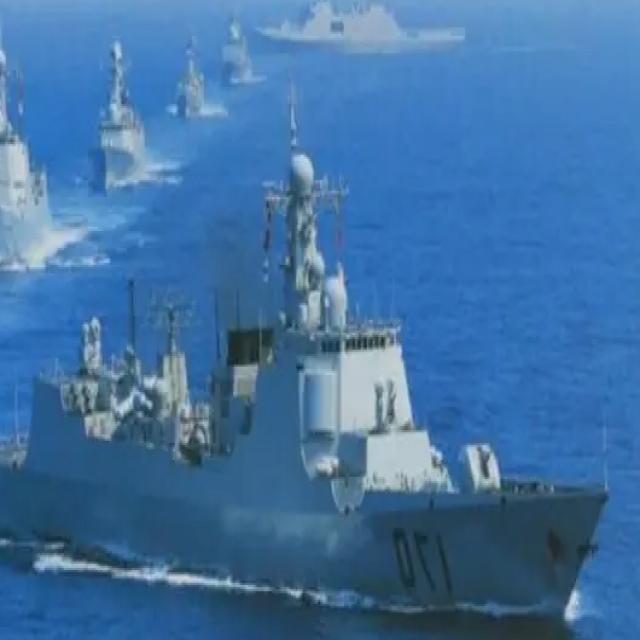navalvessels: (0, 146, 621, 608), (0, 12, 49, 275), (255, 0, 465, 53), (86, 38, 145, 188), (219, 5, 254, 87), (177, 31, 207, 121)
